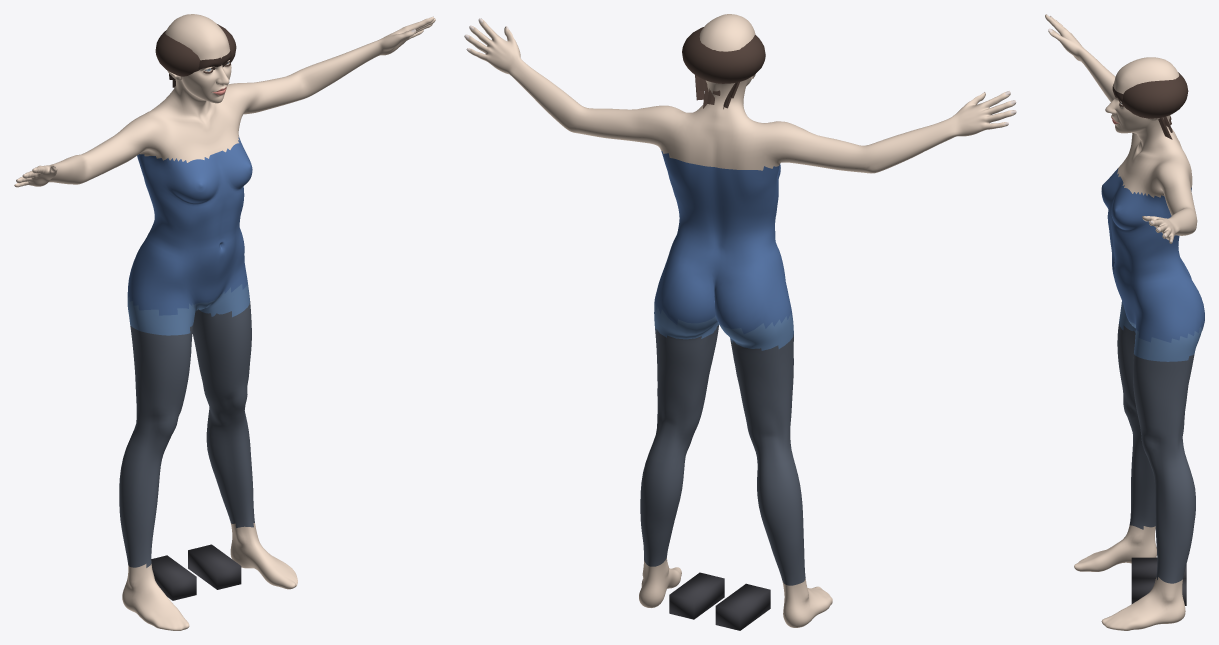
Rendered from hm_ped_rae_v13.glb.
3 views of the same model, side by side, from view 1: azimuth 30°, elevation 25°; view 2: azimuth 150°, elevation 25°; view 3: azimuth 270°, elevation 25° (orthographic). The views are drawn at different scales.
Parts seen in each view (by area): view 1: hm_ped_rae; view 2: hm_ped_rae; view 3: hm_ped_rae.
Boxes of the visible parts, x1,y1,x2,y2 form: hm_ped_rae: [14, 14, 435, 630]; hm_ped_rae: [464, 14, 1016, 630]; hm_ped_rae: [1045, 14, 1204, 630].
Bounding box in the file's own units: 1.49 × 1.72 × 0.4668.
